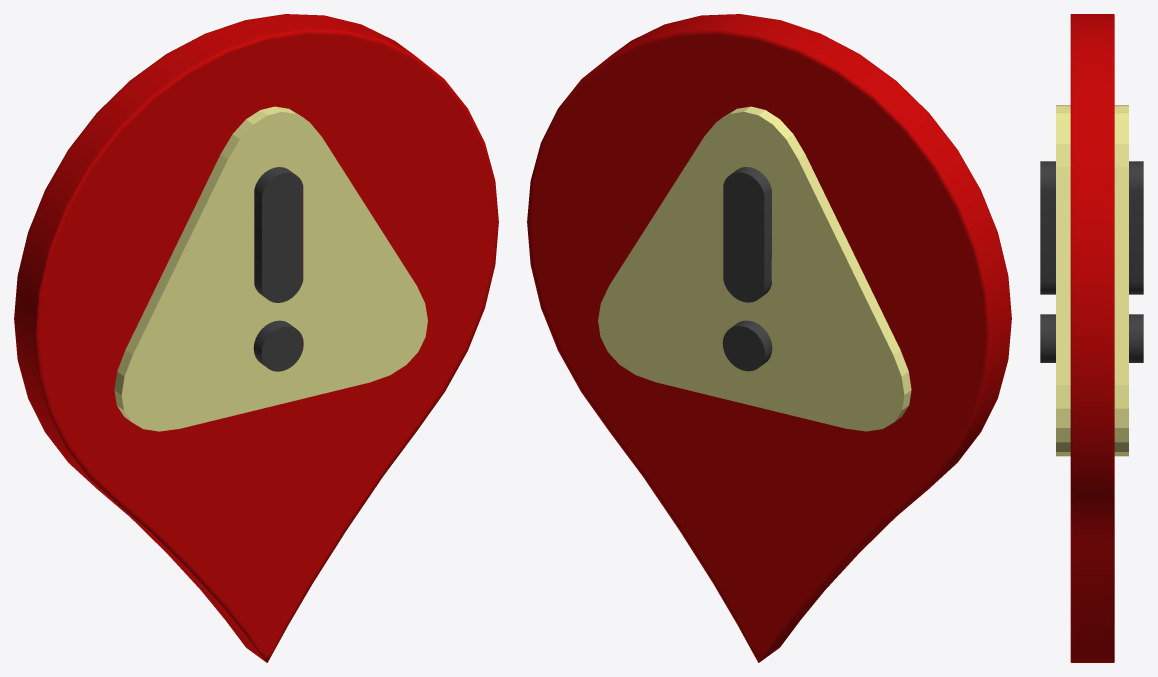
The model's file is 警告标识.glb.
3 renders of one model, left to right at view 1: azimuth 30°, elevation 25°; view 2: azimuth 150°, elevation 25°; view 3: azimuth 270°, elevation 25°, orthographic.
Parts seen in each view (by area): view 1: 红色, 黄色, 黑色; view 2: 红色, 黄色, 黑色; view 3: 红色, 黄色, 黑色.
Part boxes in pixels (box(x1,y1,x2,y2)): 红色: box(14, 14, 498, 662); 黄色: box(114, 106, 427, 431); 黑色: box(253, 167, 303, 371); 红色: box(527, 14, 1011, 662); 黄色: box(598, 106, 911, 431); 黑色: box(722, 167, 772, 371); 红色: box(1070, 14, 1114, 662); 黄色: box(1056, 105, 1128, 456); 黑色: box(1040, 161, 1143, 362).
Bounding box in the file's own units: 20.01 × 25.9 × 3.88.
